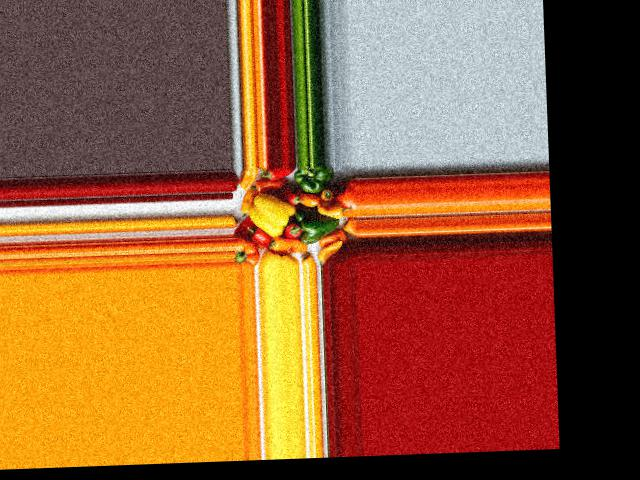bell_pepper: (260, 165, 292, 184)
